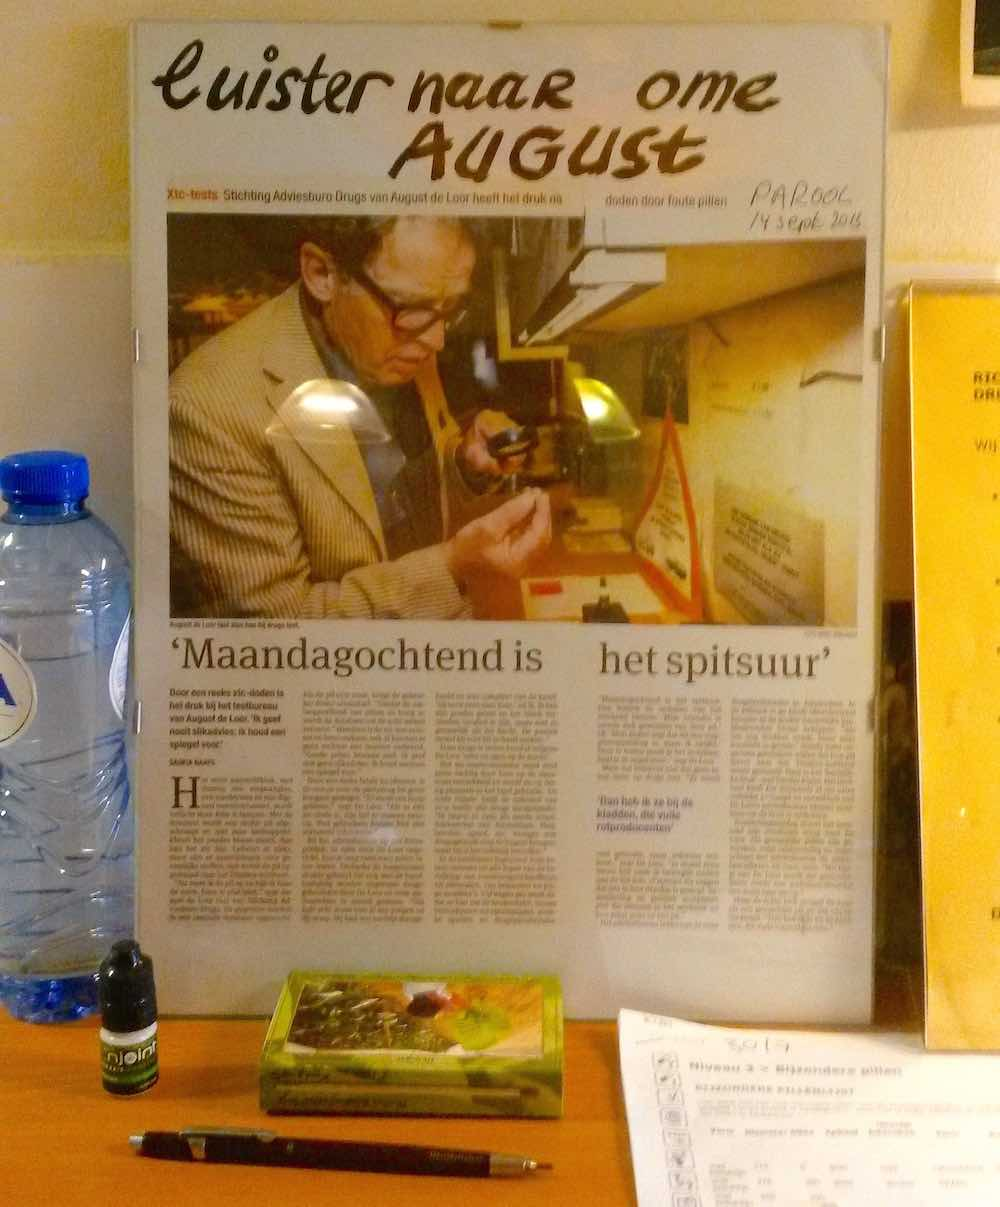plastic_bottle: (1, 438, 150, 1032)
